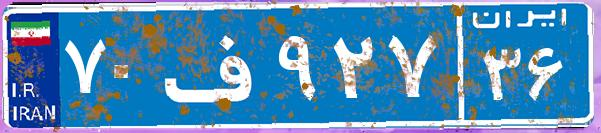0: (110, 28, 158, 105)
2: (330, 28, 385, 110)
3: (475, 38, 525, 113)
6: (525, 38, 570, 115)
7: (385, 28, 445, 110), (57, 26, 110, 107)
9: (273, 28, 330, 110)
ف: (158, 15, 273, 115)
